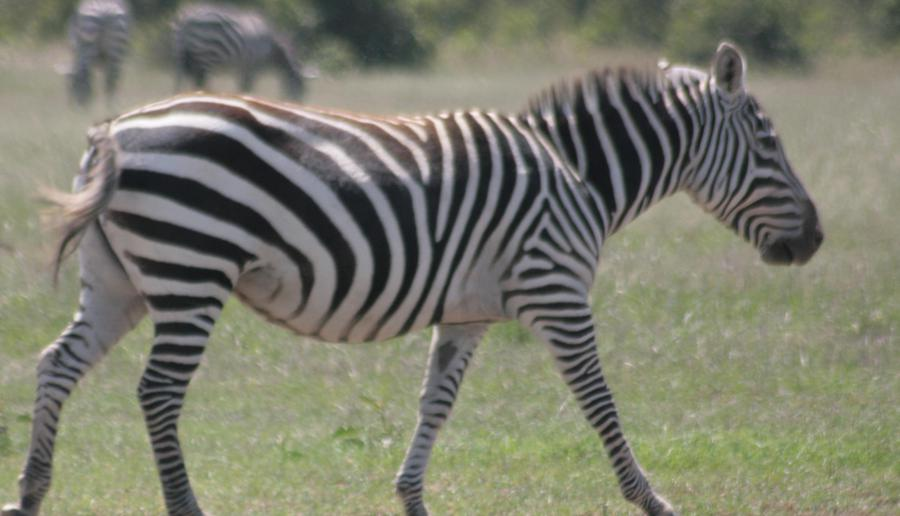zebra_plains: (123, 91, 603, 333)
